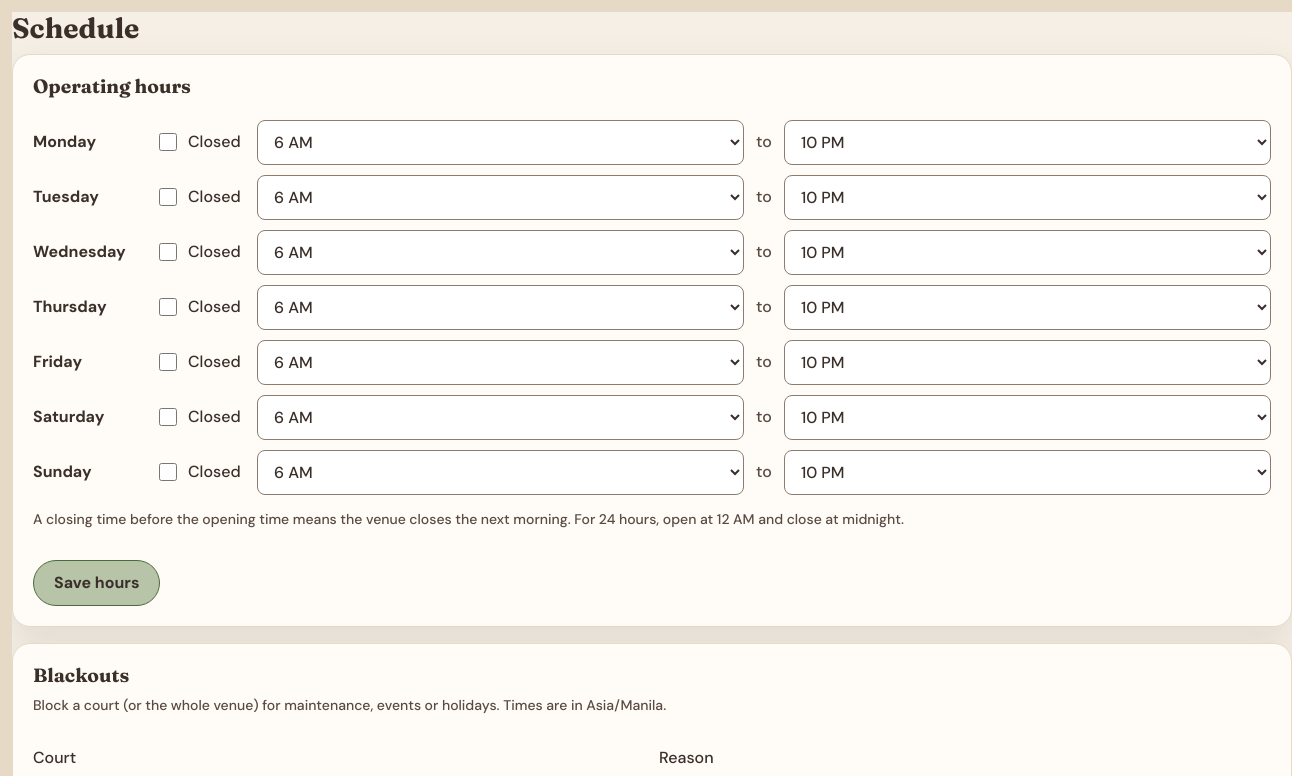
Test: SchedulePage operating hours › stops a day closing at its opening time before saving
Select "6 AM" in the dropdown named "Monday closes" at x=1027, y=142, box [784,120,1271,165]
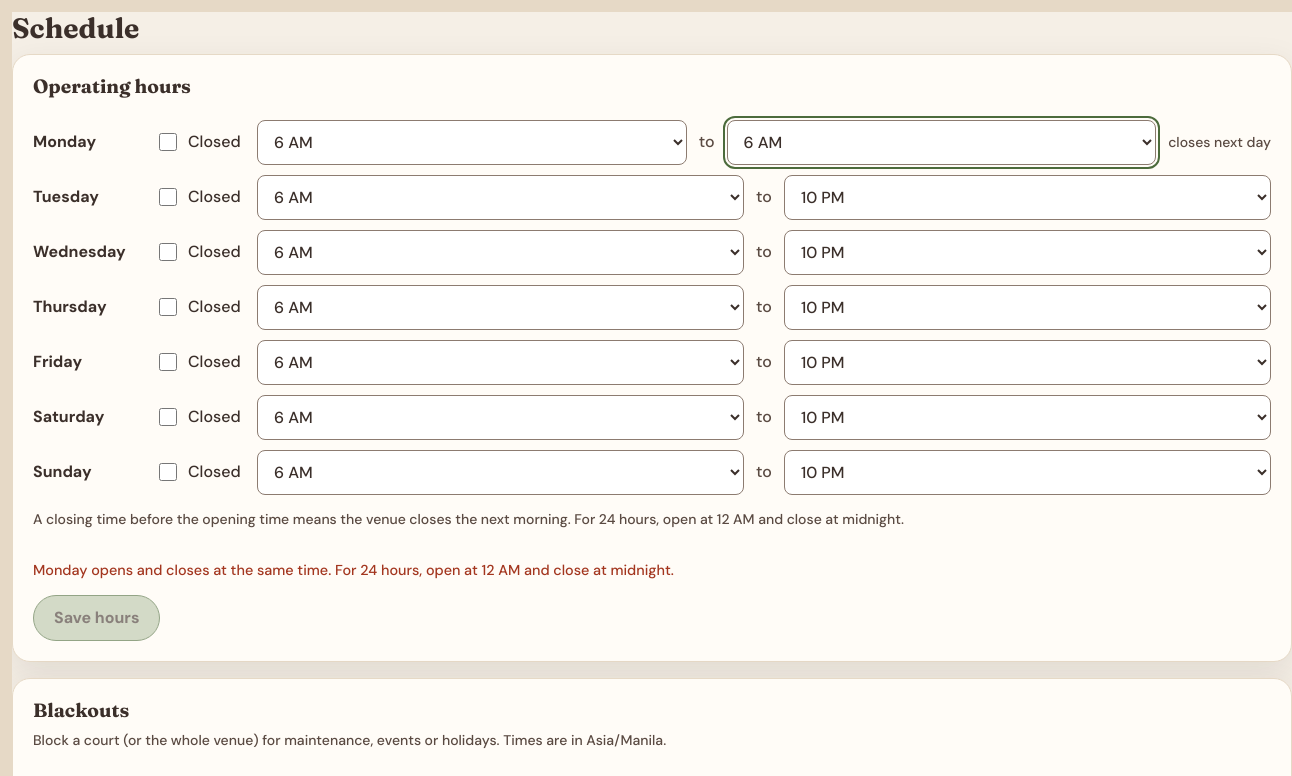
Expected: the message shows "Monday opens and closes at the same time. For 24 hours, open at 12 AM and close at midnight.", [33,561,674,579]
Expected: the button "Save hours" is disabled, [33,595,160,641]
Click the checkbox labelled "Closed" in the row of "closes next day" at x=168, y=142, box [159,133,177,151]
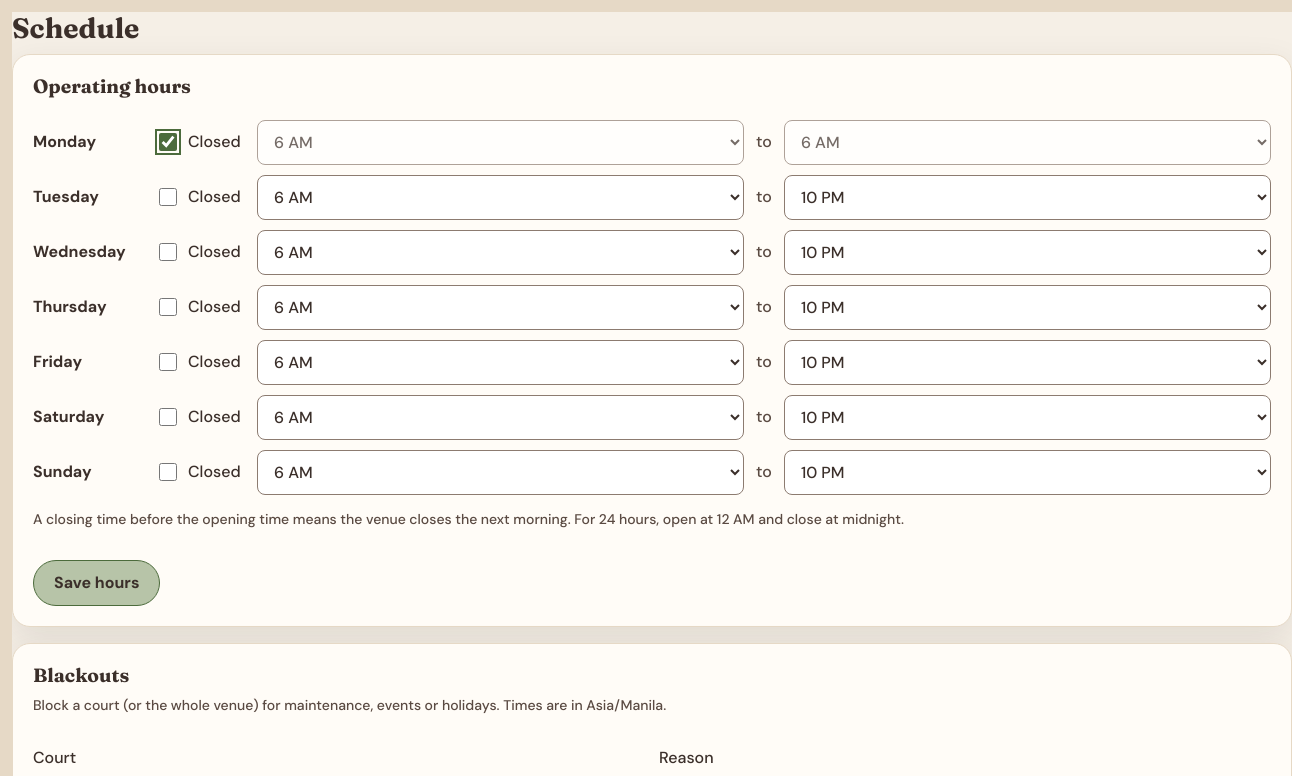
Expected: the message "Monday opens and closes at the same time. For 24 hours, open at 12 AM and close" is gone
